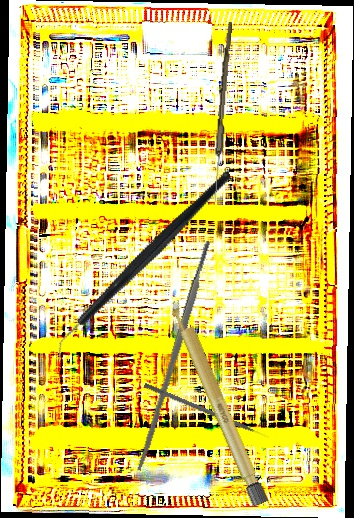Chopper: (13, 170, 273, 365)
Hook Surgical: (143, 382, 270, 442)
Scalpel Handle: (167, 297, 269, 508), (134, 240, 215, 472)
Surgical Spoon: (211, 21, 233, 203)
